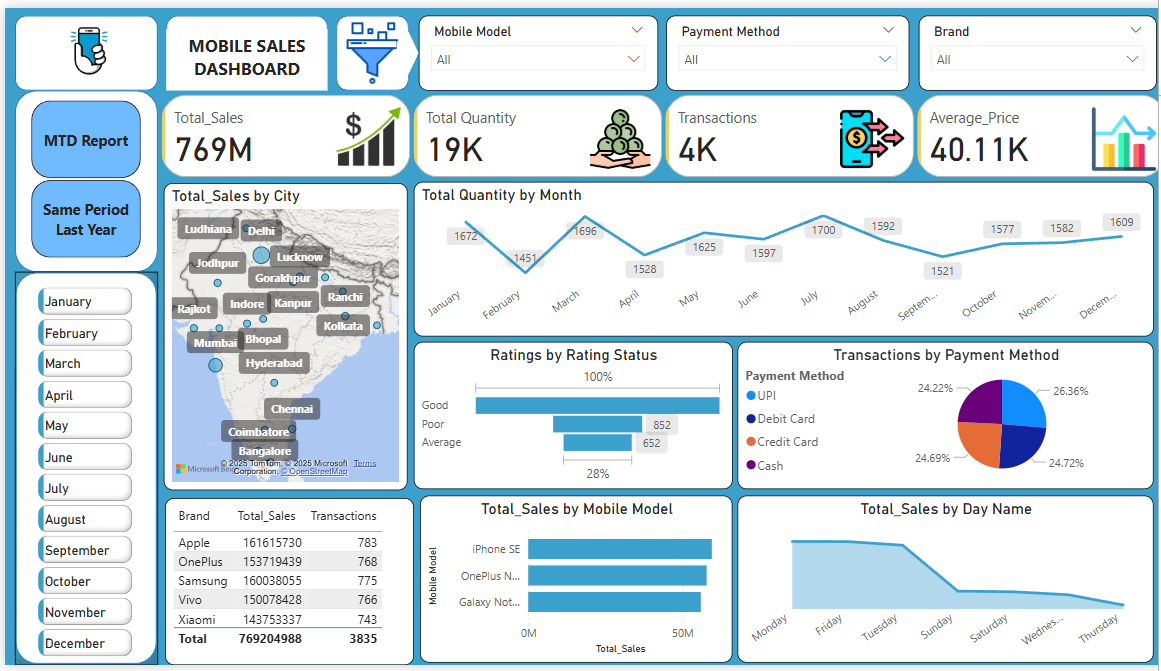

The page's visual inventory and layout, read from the dashboard file:
{"tool":"powerbi","page":{"name":"Dashboard","canvas":[1280,720],"ordinal":0},"visuals":[{"type":"shape","box":[11,8.2,156.4,82.3],"z":0},{"type":"image","box":[16.5,8.2,150.9,82.3],"z":1000},{"type":"shape","box":[11,90.6,156.4,199],"z":2000},{"type":"shape","box":[11,289.5,156.4,430.9],"z":3000},{"type":"advancedSlicerVisual","fields":{"Values":["Custum_Calender.Date.Variation.Date Hierarchy.Month"]},"box":[31.6,301.9,113.9,418.5],"z":4000},{"type":"cardVisual","fields":{"Data":["Sales_Data.Total_Sales","Sales_Data.Total Quantity","Sales_Data.Transactions","Sales_Data.Average_Price"]},"box":[167.4,90.6,1112.9,100.2],"z":5000},{"type":"slicer","fields":{"Values":["Sales_Data.Mobile Model"]},"box":[452.8,8.2,262.1,82.3],"z":6000},{"type":"slicer","fields":{"Values":["Sales_Data.Payment Method"]},"box":[724.5,8.2,266.2,82.3],"z":7000},{"type":"shape","box":[363.6,8.2,79.6,82.3],"z":8000},{"type":"slicer","fields":{"Values":["Sales_Data.Brand"]},"box":[1001.7,8.2,260.7,82.3],"z":9000},{"type":"image","box":[363.6,8.2,79.6,82.3],"z":10000},{"type":"shape","box":[428.1,23.3,24.7,52.1],"z":11000},{"type":"shape","box":[177,8.2,177,82.3],"z":12000},{"type":"textbox","box":[177,23.3,177,67.2],"z":13000},{"type":"map","fields":{"Category":["Sales_Data.City"],"Size":["Sales_Data.Total_Sales"]},"box":[174,191.8,267.1,337],"z":14000},{"type":"lineChart","fields":{"Y":["Sales_Data.Total Quantity"],"Category":["Custum_Calender.Date.Variation.Date Hierarchy.Month"]},"box":[447.9,190.4,811,169.9],"z":15000},{"type":"funnel","title":" Ratings by Rating Status","fields":{"Category":["Sales_Data.Rating Status"],"Y":["CountNonNull(Sales_Data.Customer Ratings)"]},"box":[447.9,365.8,349.3,161.6],"z":16000},{"type":"pieChart","fields":{"Y":["Sales_Data.Transactions"],"Category":["Sales_Data.Payment Method"]},"box":[802.7,365.8,456.2,161.6],"z":17000},{"type":"clusteredBarChart","fields":{"Y":["Sales_Data.Total_Sales"],"Category":["Sales_Data.Mobile Model"]},"box":[454.8,534.2,342.5,183.6],"z":18000},{"type":"areaChart","fields":{"Category":["Custum_Calender.Day Name"],"Y":["Sales_Data.Total_Sales"]},"box":[802.7,534.2,456.2,183.6],"z":19000},{"type":"tableEx","fields":{"Values":["Sales_Data.Brand","Sales_Data.Total_Sales","Sales_Data.Transactions"]},"box":[175.3,537,272.6,183.6],"z":20000},{"type":"pageNavigator","box":[28.8,101.4,120.5,174],"z":20001}]}

Visuals, with their boxes in screenshot pixels (x1, y1, x2, y2), scaled from the page's 1280x720 canvas onto the 1161x671 screenshot:
shape: box(10, 8, 152, 84)
image: box(15, 8, 152, 84)
shape: box(10, 84, 152, 270)
shape: box(10, 270, 152, 670)
advancedSlicerVisual - Custum_Calender.Date.Variation.Date Hierarchy.Month: box(29, 281, 132, 670)
cardVisual - Sales_Data.Total_Sales x Sales_Data.Total Quantity: box(152, 84, 1160, 178)
slicer - Sales_Data.Mobile Model: box(411, 8, 648, 84)
slicer - Sales_Data.Payment Method: box(657, 8, 899, 84)
shape: box(330, 8, 402, 84)
slicer - Sales_Data.Brand: box(909, 8, 1145, 84)
image: box(330, 8, 402, 84)
shape: box(388, 22, 411, 70)
shape: box(161, 8, 321, 84)
textbox: box(161, 22, 321, 84)
map - Sales_Data.City x Sales_Data.Total_Sales: box(158, 179, 400, 493)
lineChart - Sales_Data.Total Quantity x Custum_Calender.Date.Variation.Date Hierarchy.Month: box(406, 177, 1142, 336)
" Ratings by Rating Status" funnel: box(406, 341, 723, 492)
pieChart - Sales_Data.Transactions x Sales_Data.Payment Method: box(728, 341, 1142, 492)
clusteredBarChart - Sales_Data.Total_Sales x Sales_Data.Mobile Model: box(413, 498, 723, 669)
areaChart - Custum_Calender.Day Name x Sales_Data.Total_Sales: box(728, 498, 1142, 669)
tableEx - Sales_Data.Brand x Sales_Data.Total_Sales: box(159, 500, 406, 670)
pageNavigator: box(26, 94, 135, 257)
